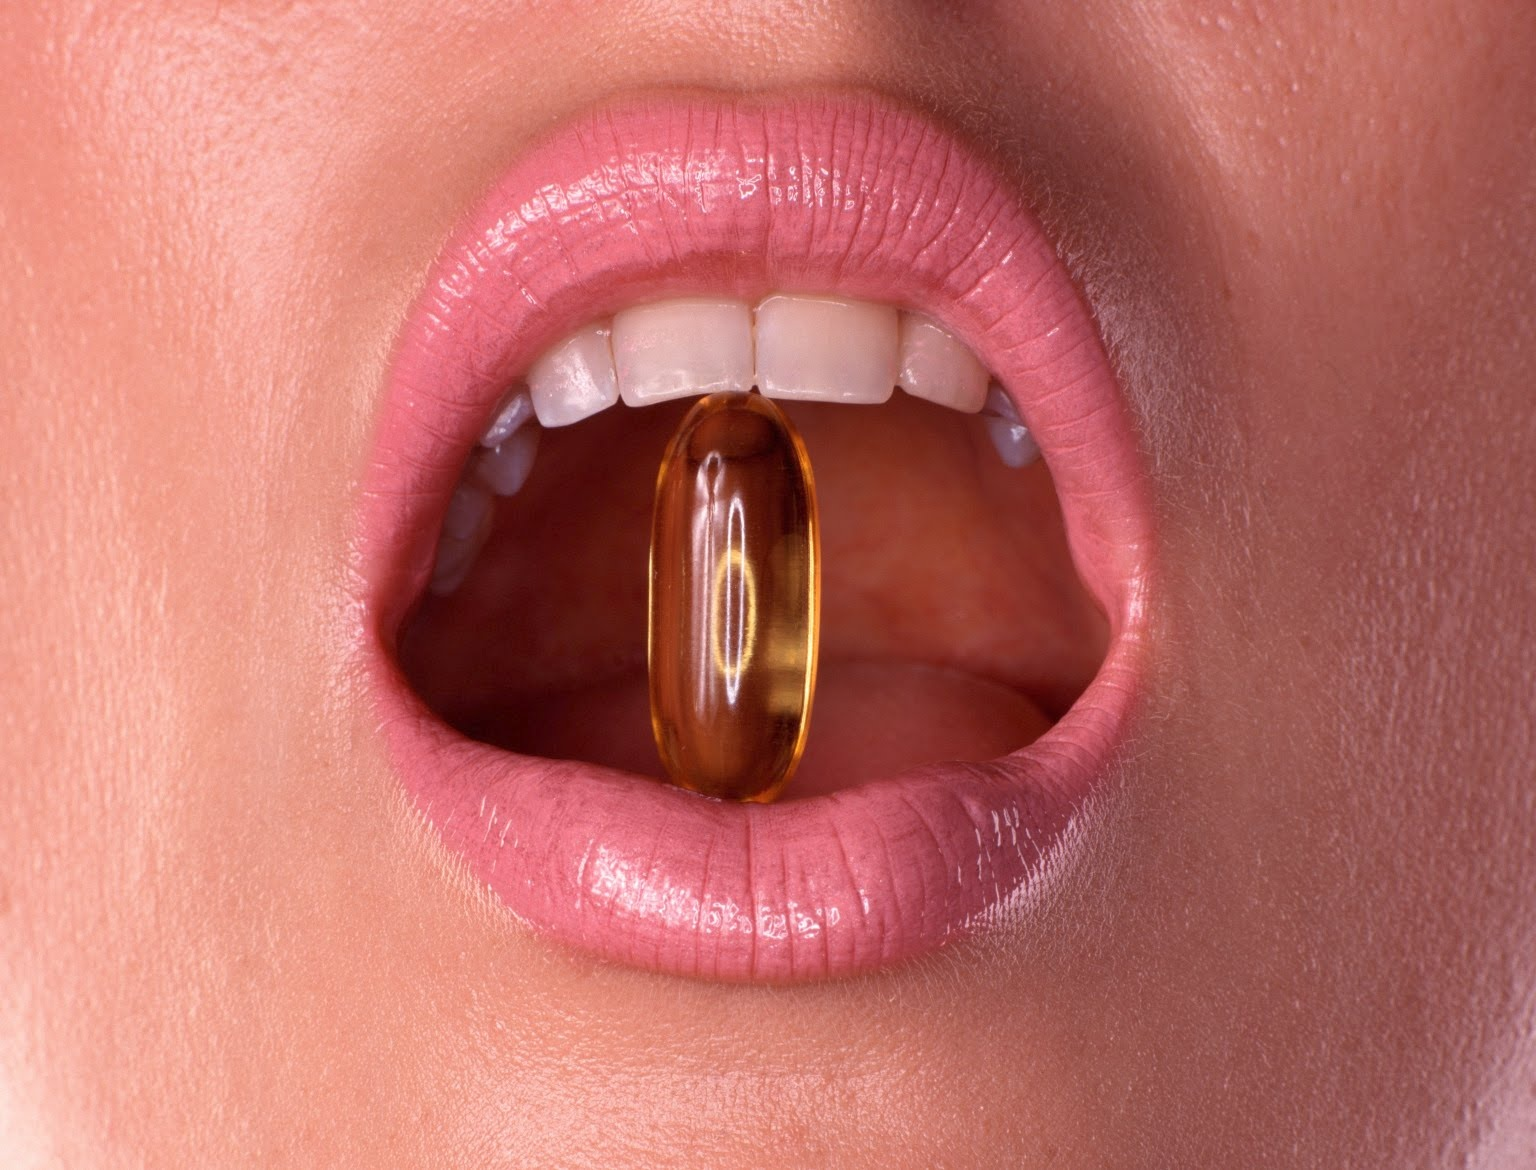pills: (650, 377, 818, 796)
